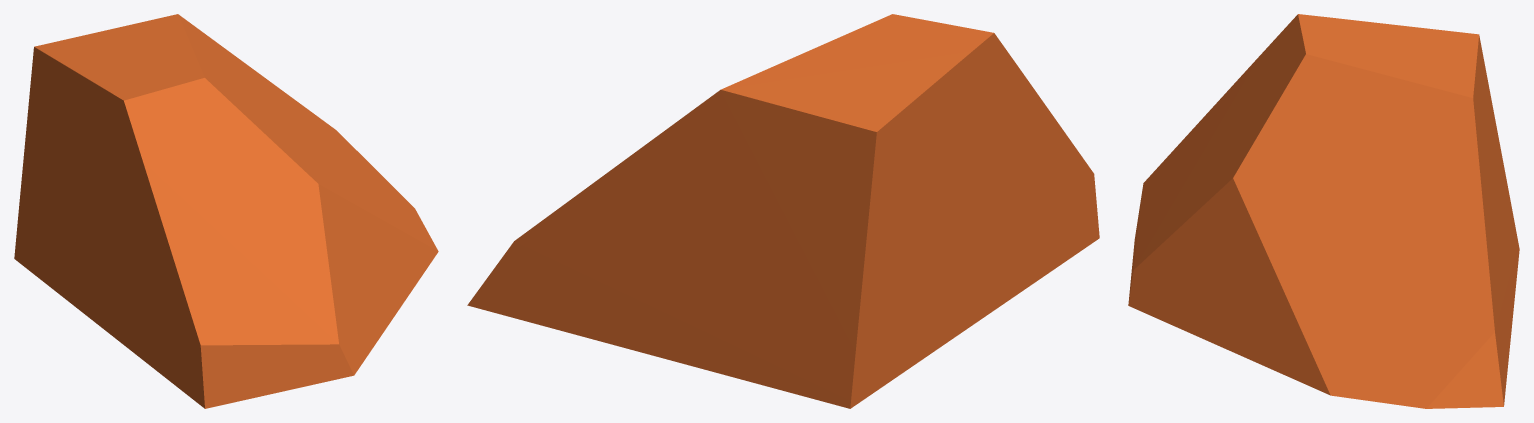
Rendered from SMALLROCK02.fbx.
3 renders of one model, left to right at view 1: azimuth 30°, elevation 25°; view 2: azimuth 150°, elevation 25°; view 3: azimuth 270°, elevation 25°, orthographic. The views are drawn at different scales.
Visible parts, largest first — view 1: SMALLROCK02; view 2: SMALLROCK02; view 3: SMALLROCK02.
Part boxes in pixels (left/top/right/bottom): SMALLROCK02: left=14, top=14, right=438, bottom=408; SMALLROCK02: left=467, top=14, right=1099, bottom=408; SMALLROCK02: left=1128, top=14, right=1519, bottom=408.
Size of the model in its own units: 36.66 by 23.66 by 36.26.
